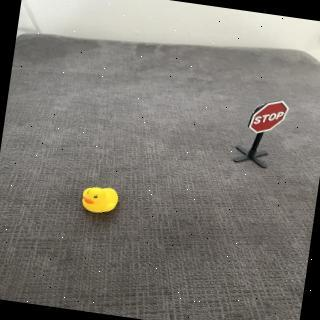duck_regular: (80, 183, 122, 218)
sign_stop: (247, 96, 291, 139)
